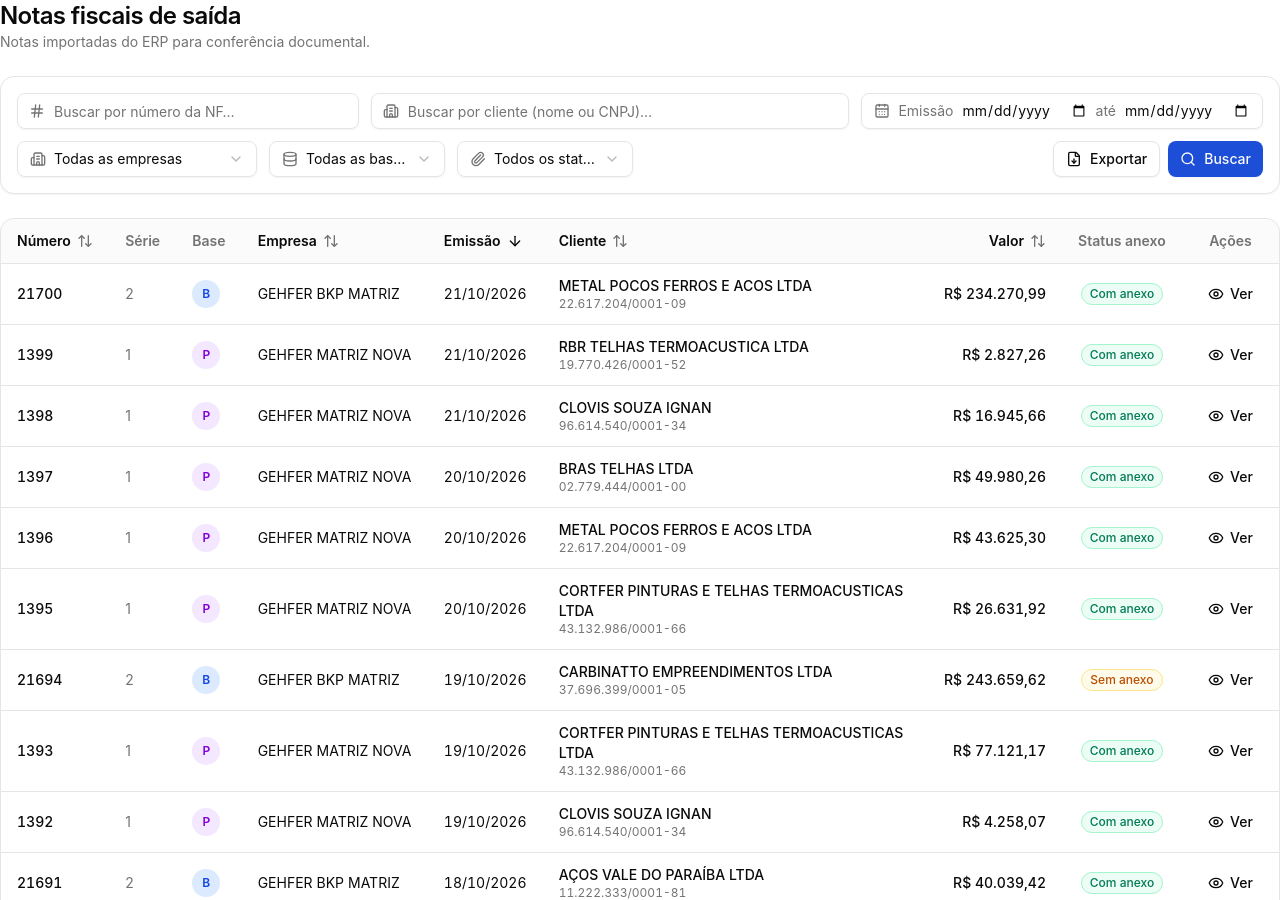
Test: NotasFiscaisPage › busca cliente pelo CNPJ formatado
In the field labelled "cliente": x=610, y=111 [371,93,849,129], type "02.779.444/0001-00"
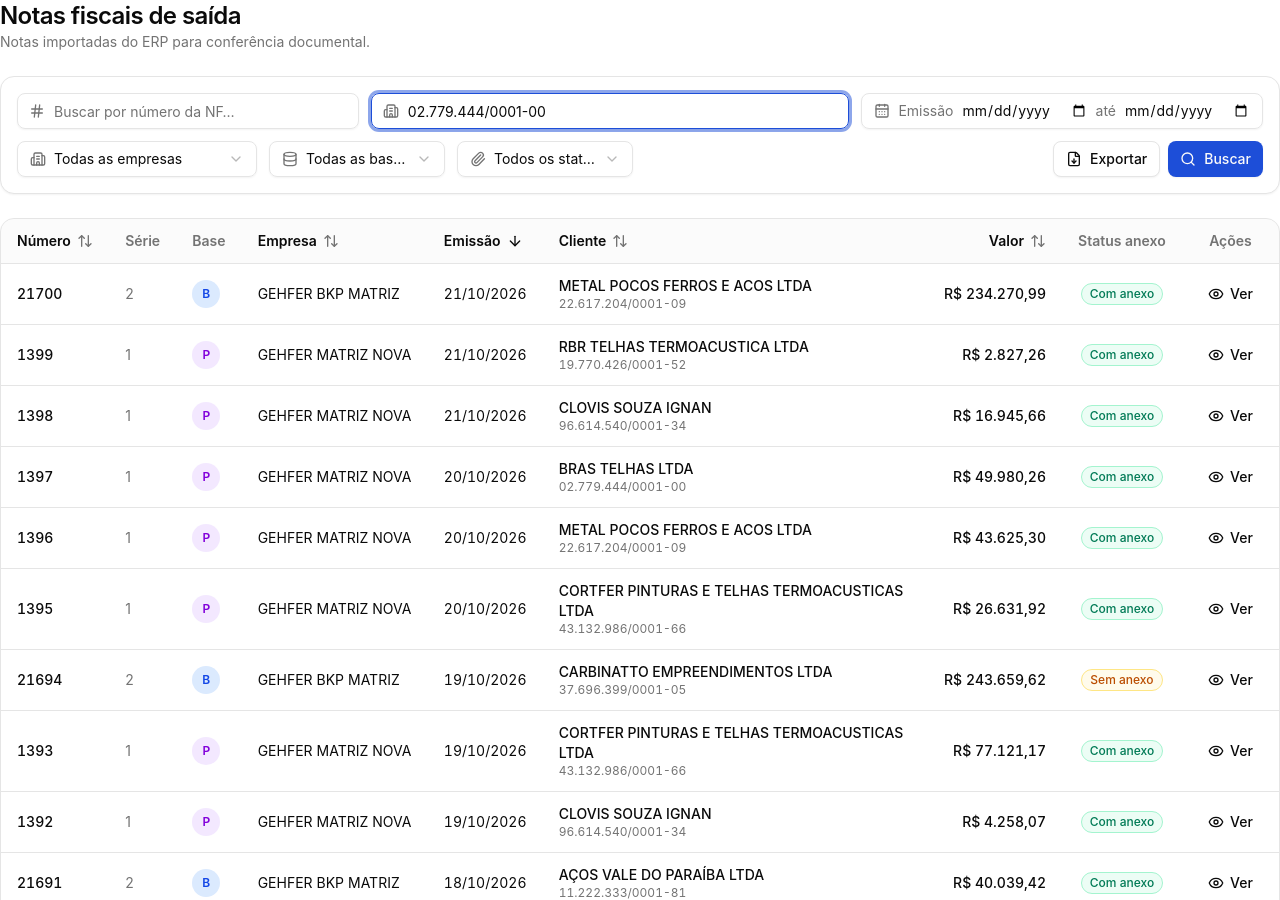
Click the button "Buscar": x=1216, y=159 [1168,141,1263,177]
(page scrolled)
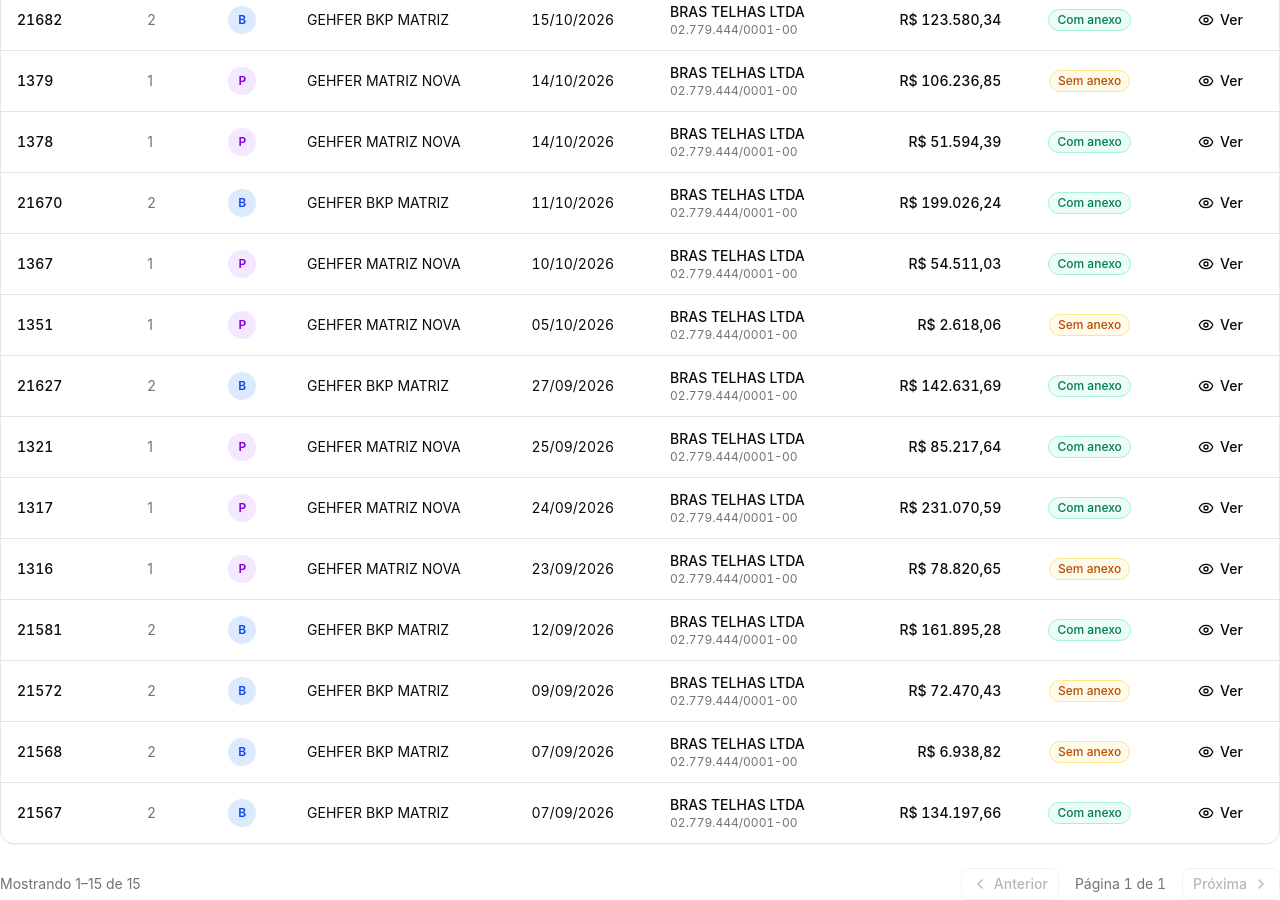
Expected: the text "BRAS TELHAS LTDA" in the row of "1379" is shown, [670,64,805,80]
Expected: the text "BRAS TELHAS LTDA" in the row of "1378" is shown, [670,124,805,142]
Expected: the text "BRAS TELHAS LTDA" in the row of "21670" is shown, [670,186,805,202]
